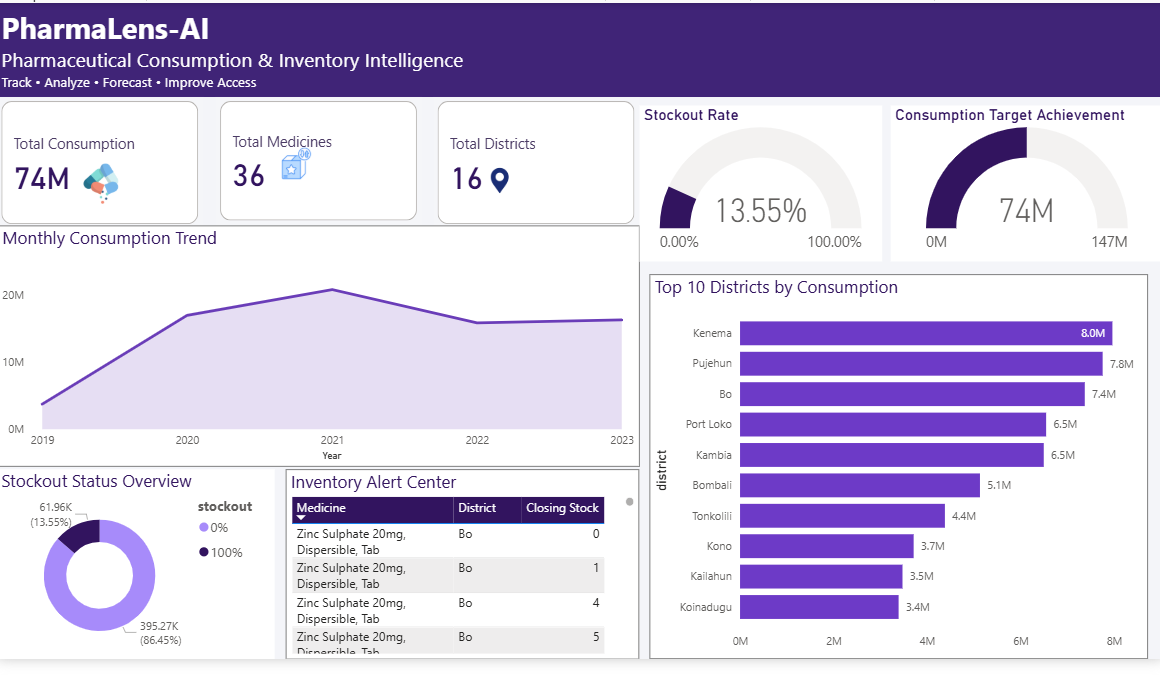

This screenshot's page, from the dashboard's own definition file:
{"tool":"powerbi","page":{"name":"Page 1","canvas":[1280,720],"ordinal":0},"visuals":[{"type":"textbox","box":[0,0,1280.3,102.9],"z":0},{"type":"cardVisual","title":"Total Consumption","fields":{"Data":["S2_Dhis2Data.Total Consumption"]},"box":[0,102.9,226.4,145.5],"z":1000},{"type":"cardVisual","title":"Total Consumption","fields":{"Data":["S2_Dhis2Data.Total Medicines"]},"box":[240.1,102.9,226.4,141.3],"z":2000},{"type":"cardVisual","title":"Total Consumption","fields":{"Data":["S2_Dhis2Data.Total Districts"]},"box":[478.9,102.9,226.4,145.5],"z":3000},{"type":"lineChart","title":"Monthly Consumption Trend","fields":{"Category":["S2_Dhis2Data.date.Variation.Date Hierarchy.Year","S2_Dhis2Data.date.Variation.Date Hierarchy.Month"],"Y":["Sum(S2_Dhis2Data.consumption)"]},"box":[0,244.3,705.3,264.8],"z":4000},{"type":"donutChart","title":"Stockout Status Overview","fields":{"Category":["S2_Dhis2Data.stockout"],"Y":["CountNonNull(S2_Dhis2Data.hf_pk)"]},"box":[0,511.8,304.6,208.6],"z":5000},{"type":"tableEx","title":"Inventory Alert Center","fields":{"Values":["S2_Dhis2Data.name1","S2_Dhis2Data.district","S2_Dhis2Data.closeBalance"]},"box":[317,511.8,388.3,208.6],"z":6000},{"type":"clusteredBarChart","title":"Top 10 Districts by Consumption","fields":{"Category":["S2_Dhis2Data.district"],"Y":["S2_Dhis2Data.Total Consumption"]},"box":[716.3,297.8,547.5,422.6],"z":6001},{"type":"gauge","title":"Stockout Rate","fields":{"Y":["S2_Dhis2Data.Stockout Rate %"]},"box":[705.3,112.5,266.2,171.5],"z":6002},{"type":"gauge","title":"Consumption Target Achievement","fields":{"Y":["Sum(S2_Dhis2Data.consumption)"]},"box":[981.1,112.5,299.1,171.5],"z":6003},{"type":"image","box":[86.4,171.5,54.9,53.5],"z":6004},{"type":"image","box":[304.6,153.7,48,45.3],"z":6005},{"type":"image","box":[531,175.6,41.2,38.4],"z":6006}]}

Visuals, with their boxes on the page's 1280x720 design canvas (x1, y1, x2, y2). These are canvas units, not pixel positions in the 1160x675 screenshot, which may show the page scaled, cropped or inside an application window:
textbox: l=0, t=0, r=1280, b=103
"Total Consumption" cardVisual: l=0, t=103, r=226, b=248
"Total Consumption" cardVisual: l=240, t=103, r=466, b=244
"Total Consumption" cardVisual: l=479, t=103, r=705, b=248
"Monthly Consumption Trend" lineChart: l=0, t=244, r=705, b=509
"Stockout Status Overview" donutChart: l=0, t=512, r=305, b=720
"Inventory Alert Center" tableEx: l=317, t=512, r=705, b=720
"Top 10 Districts by Consumption" clusteredBarChart: l=716, t=298, r=1264, b=720
"Stockout Rate" gauge: l=705, t=112, r=972, b=284
"Consumption Target Achievement" gauge: l=981, t=112, r=1280, b=284
image: l=86, t=172, r=141, b=225
image: l=305, t=154, r=353, b=199
image: l=531, t=176, r=572, b=214
